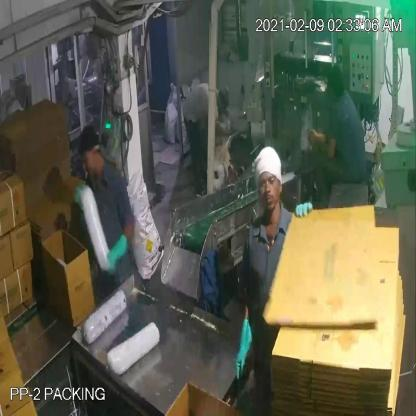glove: (229, 302, 256, 386), (101, 223, 132, 283), (72, 184, 92, 214)
no_glove: (304, 124, 329, 150), (318, 136, 340, 163)
